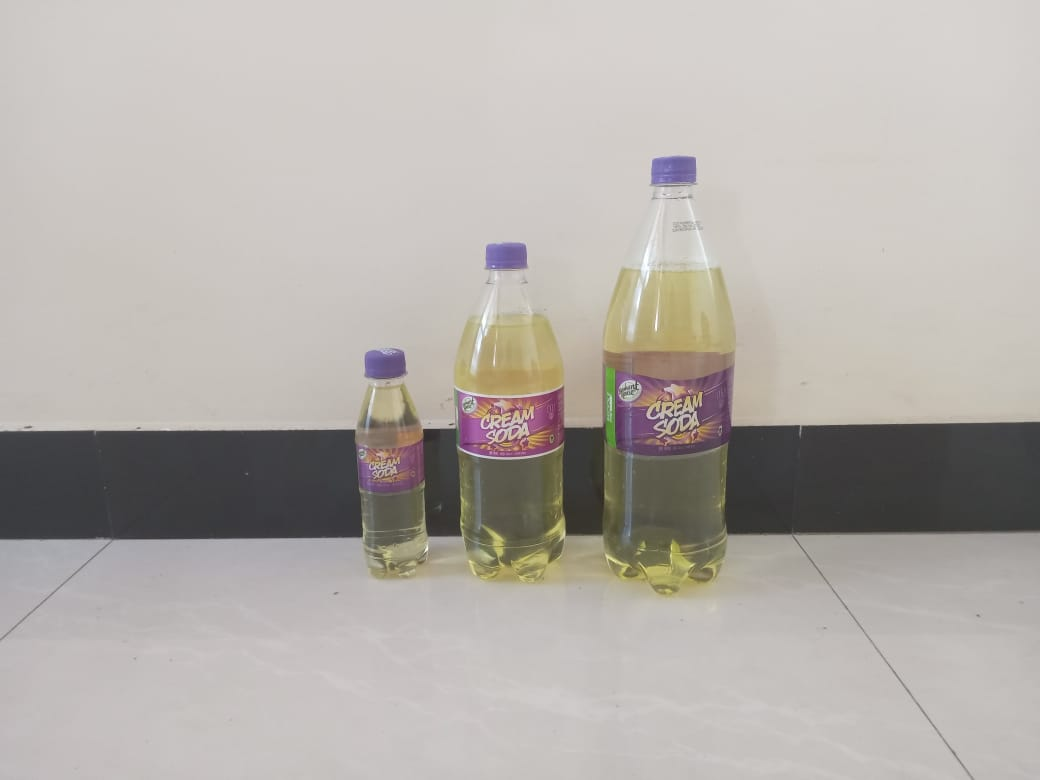L: (600, 157, 739, 598)
M: (449, 244, 573, 582)
Xs: (353, 351, 431, 581)
